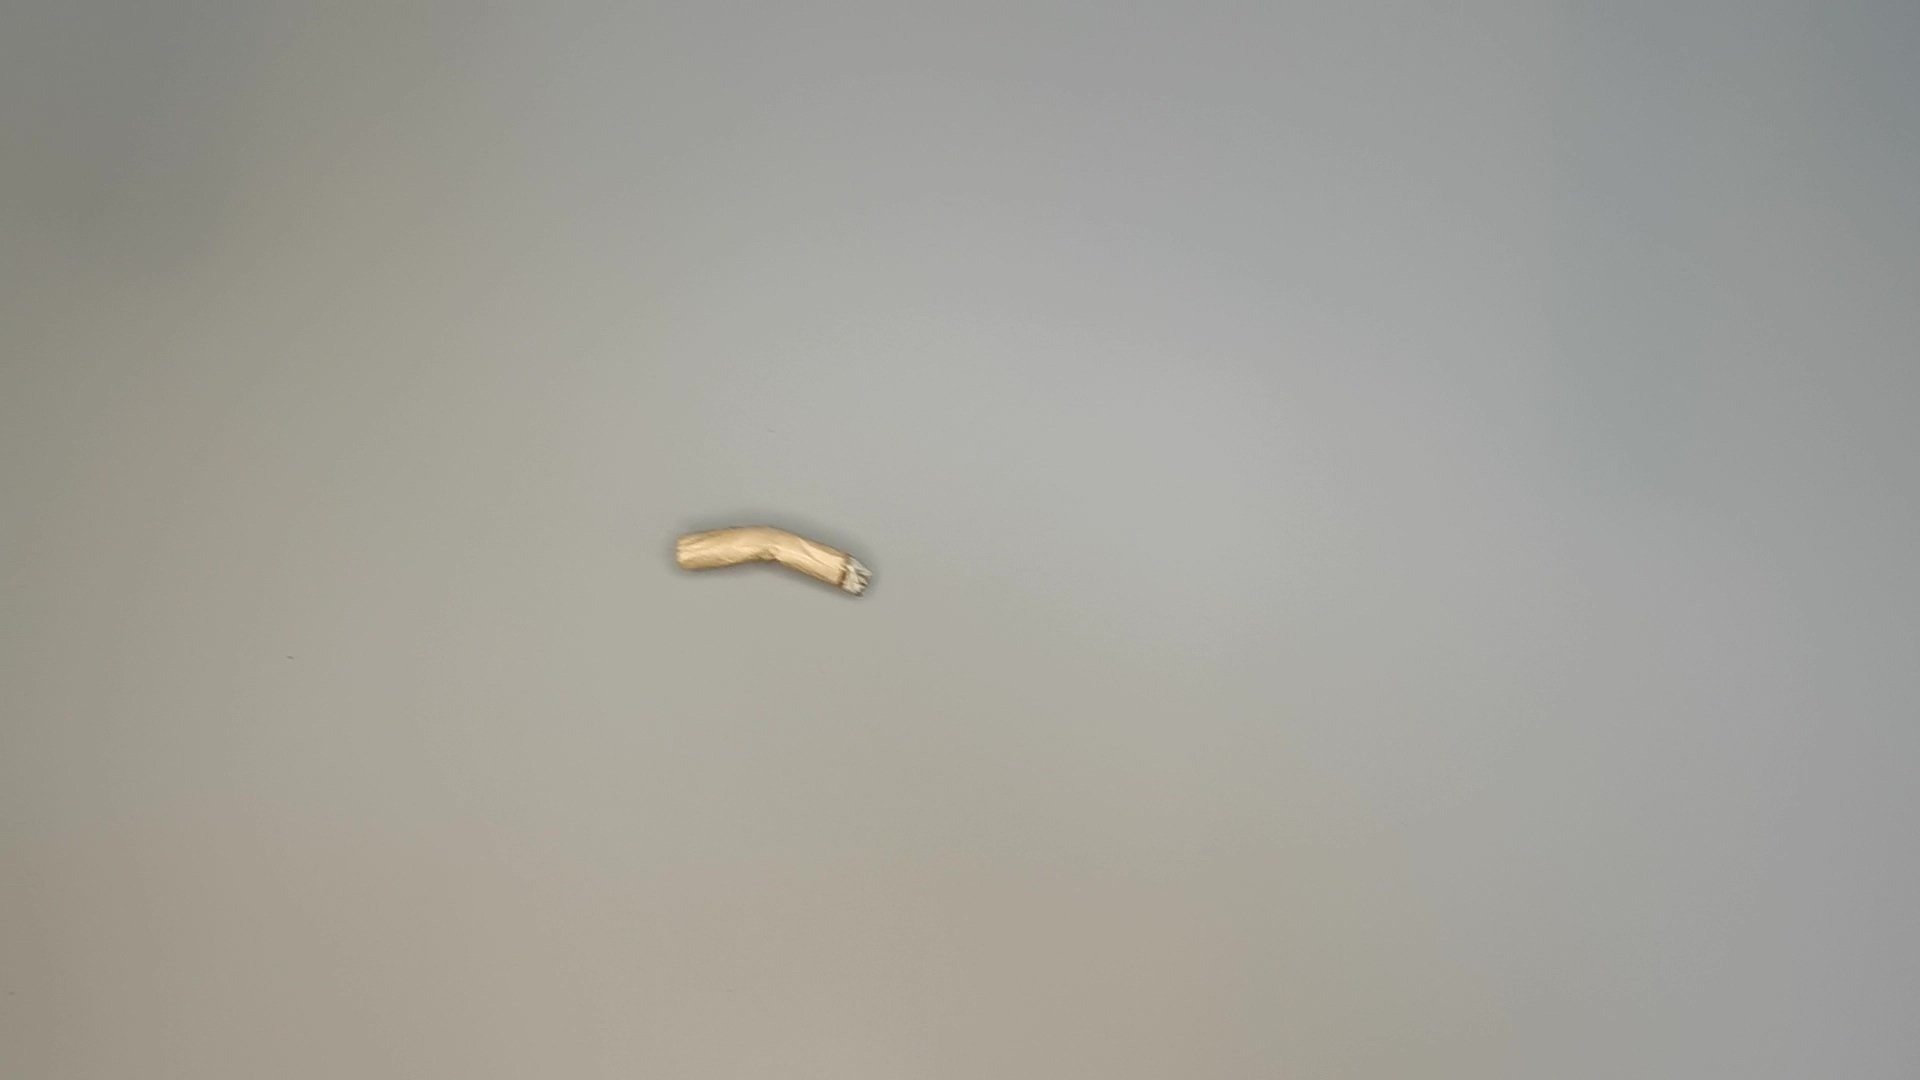cigarette: (666, 524, 886, 607)
